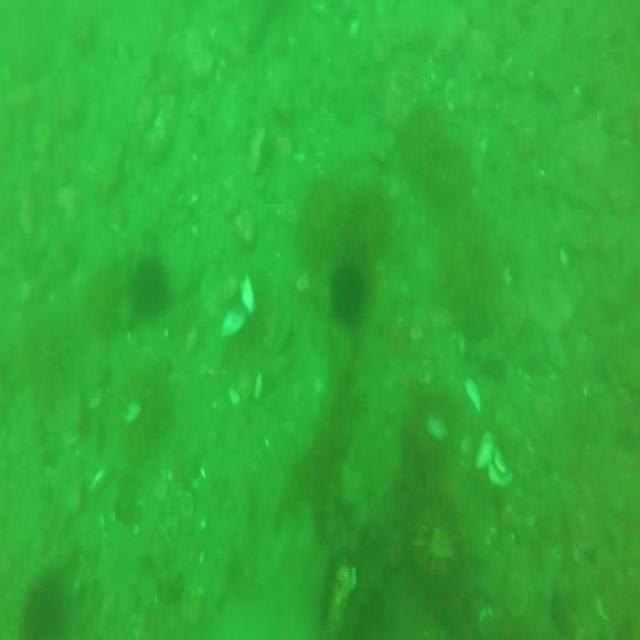echinus: (403, 491, 465, 596), (442, 226, 492, 326), (400, 96, 446, 192), (297, 178, 349, 262), (429, 140, 479, 222), (20, 573, 68, 640), (129, 260, 169, 318), (329, 267, 365, 318)
scallop: (474, 430, 514, 488), (216, 277, 255, 335), (427, 411, 449, 442), (461, 376, 480, 411), (122, 404, 140, 424)
